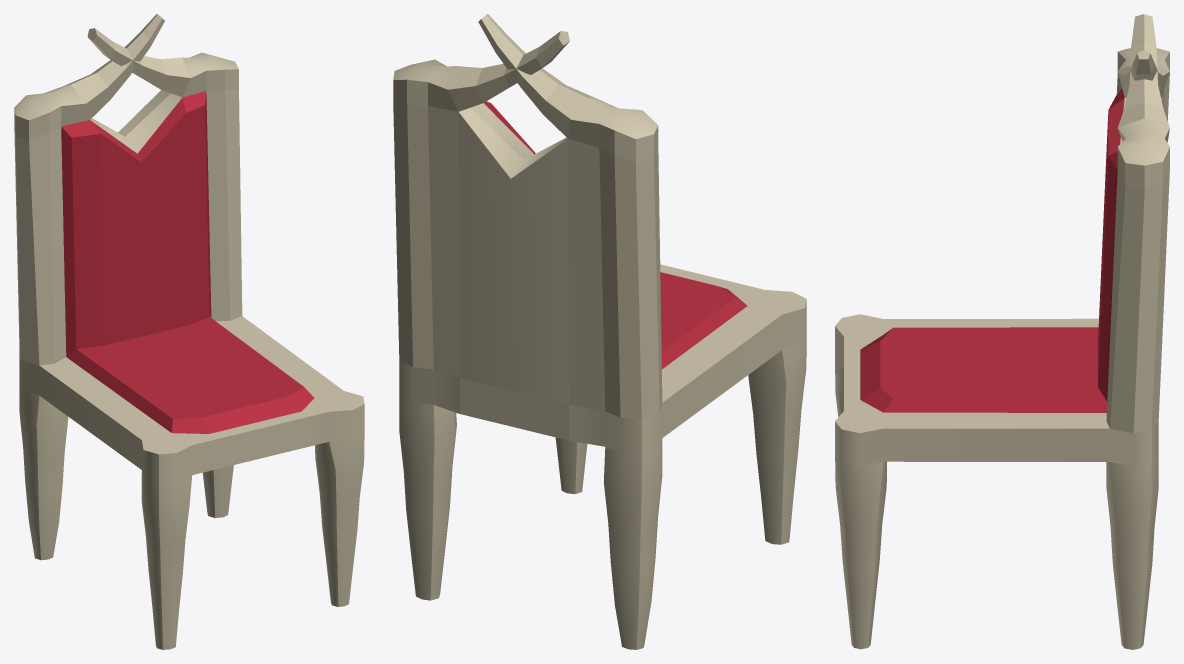
File: Silla_FBX.fbx
3 renders of one model, left to right at view 1: azimuth 30°, elevation 25°; view 2: azimuth 150°, elevation 25°; view 3: azimuth 270°, elevation 25°, orthographic. The views are drawn at different scales.
Parts seen in each view (by area): view 1: Silla; view 2: Silla; view 3: Silla.
Boxes of the visible parts, x1,y1,x2,y2 form: Silla: (14, 14, 364, 649); Silla: (393, 14, 806, 649); Silla: (835, 14, 1169, 649).
Bounding box in the file's own units: 0.7796 × 1.73 × 0.9267.
